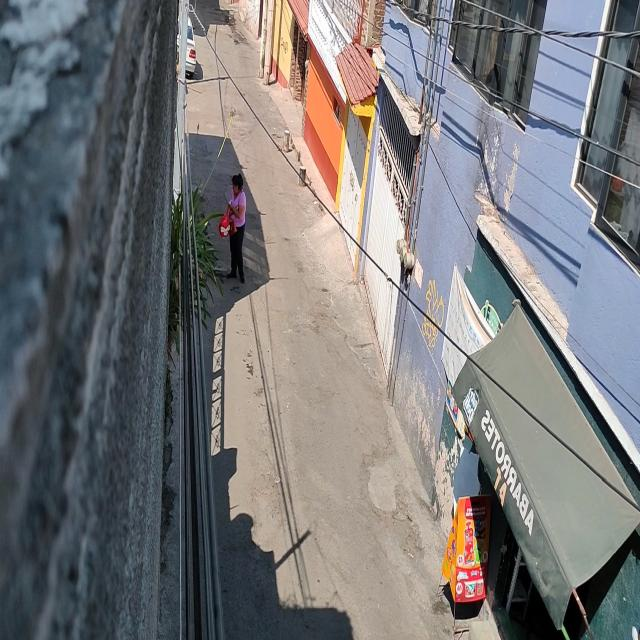adult: (225, 174, 246, 285)
